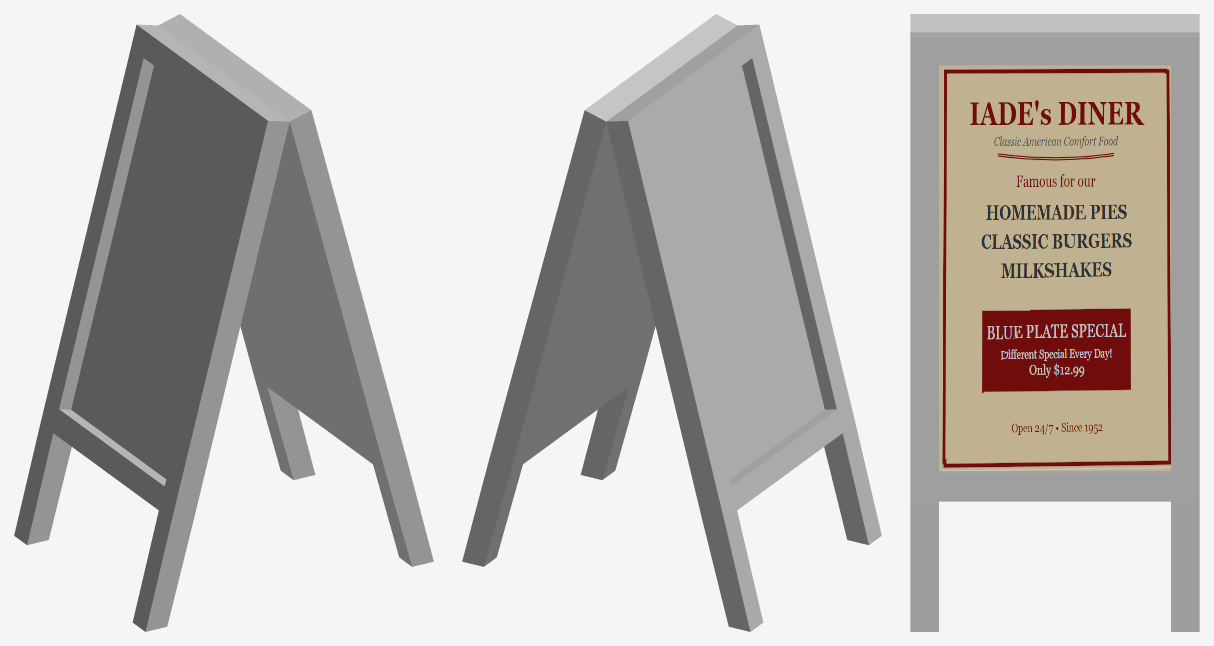
Rendered from Menu Stand.fbx.
3 renders of one model, left to right at view 1: azimuth 30°, elevation 25°; view 2: azimuth 150°, elevation 25°; view 3: azimuth 270°, elevation 25°, orthographic. The views are drawn at different scales.
Parts seen in each view (by area): view 1: SM_floor_sign.002; view 2: SM_floor_sign.002; view 3: SM_floor_sign.002.
Part boxes in pixels (box(x1,y1,x2,y2)): SM_floor_sign.002: box(14, 14, 433, 631); SM_floor_sign.002: box(462, 14, 881, 631); SM_floor_sign.002: box(910, 14, 1199, 631).
Bounding box in the file's own units: 7115 × 11349 × 5619.
